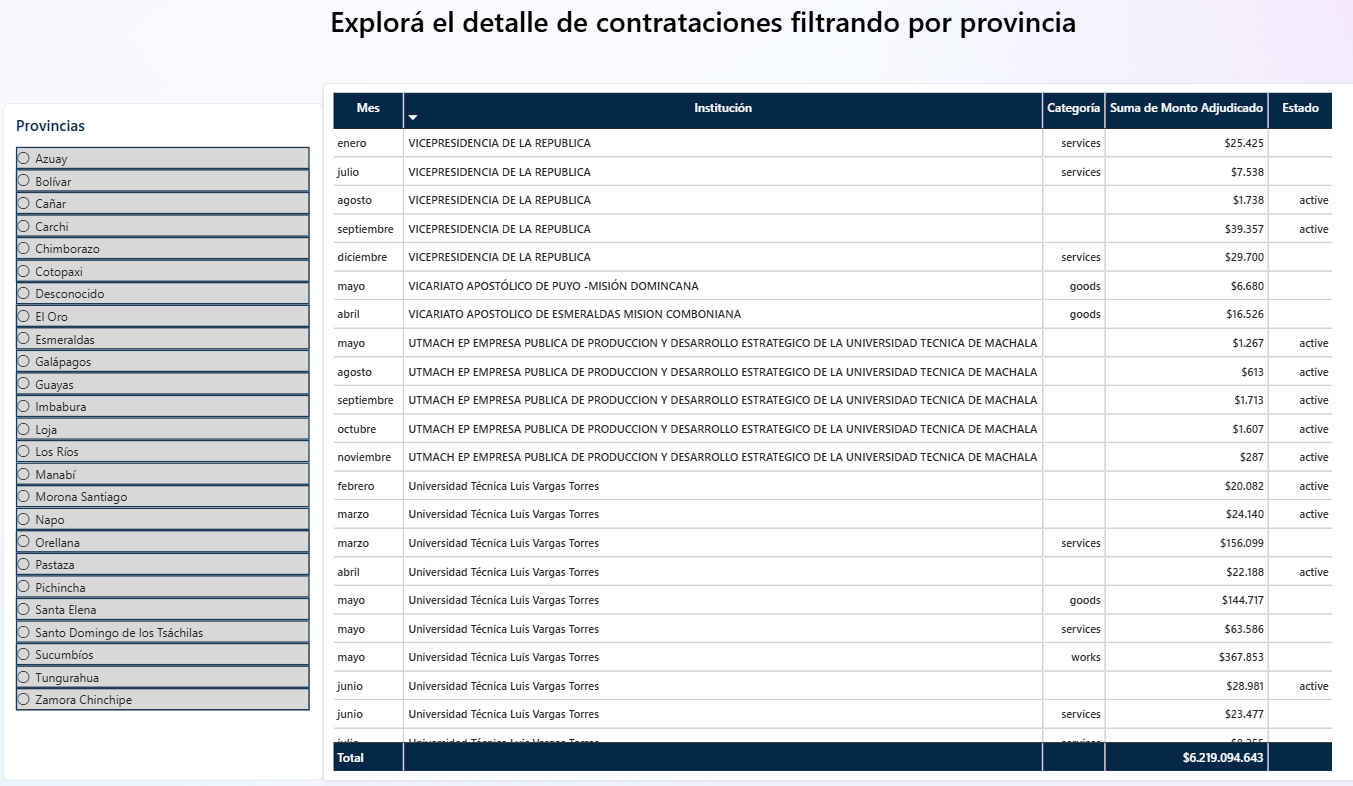

The dashboard page shown, as its layout file describes it:
{"tool":"powerbi","page":{"name":"Detalle Procesos - Provincias","canvas":[1920,1080],"ordinal":2},"visuals":[{"type":"listSlicer","title":"Provincias","fields":{"Values":["contratacion_2025_completo.provincia"]},"box":[29.3,146.3,425.7,901.4],"z":0},{"type":"tableEx","fields":{"Values":["contratacion_2025_completo.date.Variación.Jerarquía de fechas.Mes","contratacion_2025_completo.procuringEntity_name","contratacion_2025_completo.mainProcurementCategory","Sum(contratacion_2025_completo.amount)","contratacion_2025_completo.status"]},"box":[454.9,119.7,1417.8,928.4],"z":1000},{"type":"textbox","box":[445,11.7,1030,81.7],"z":2000}]}

Visuals, with their boxes on the page's 1920x1080 design canvas (x1, y1, x2, y2). These are canvas units, not pixel positions in the 1353x786 screenshot, which may show the page scaled, cropped or inside an application window:
"Provincias" listSlicer: BBox(29, 146, 455, 1048)
tableEx - contratacion_2025_completo.date.Variación.Jerarquía de fechas.Mes x contratacion_2025_completo.procuringEntity_name: BBox(455, 120, 1873, 1048)
textbox: BBox(445, 12, 1475, 93)
